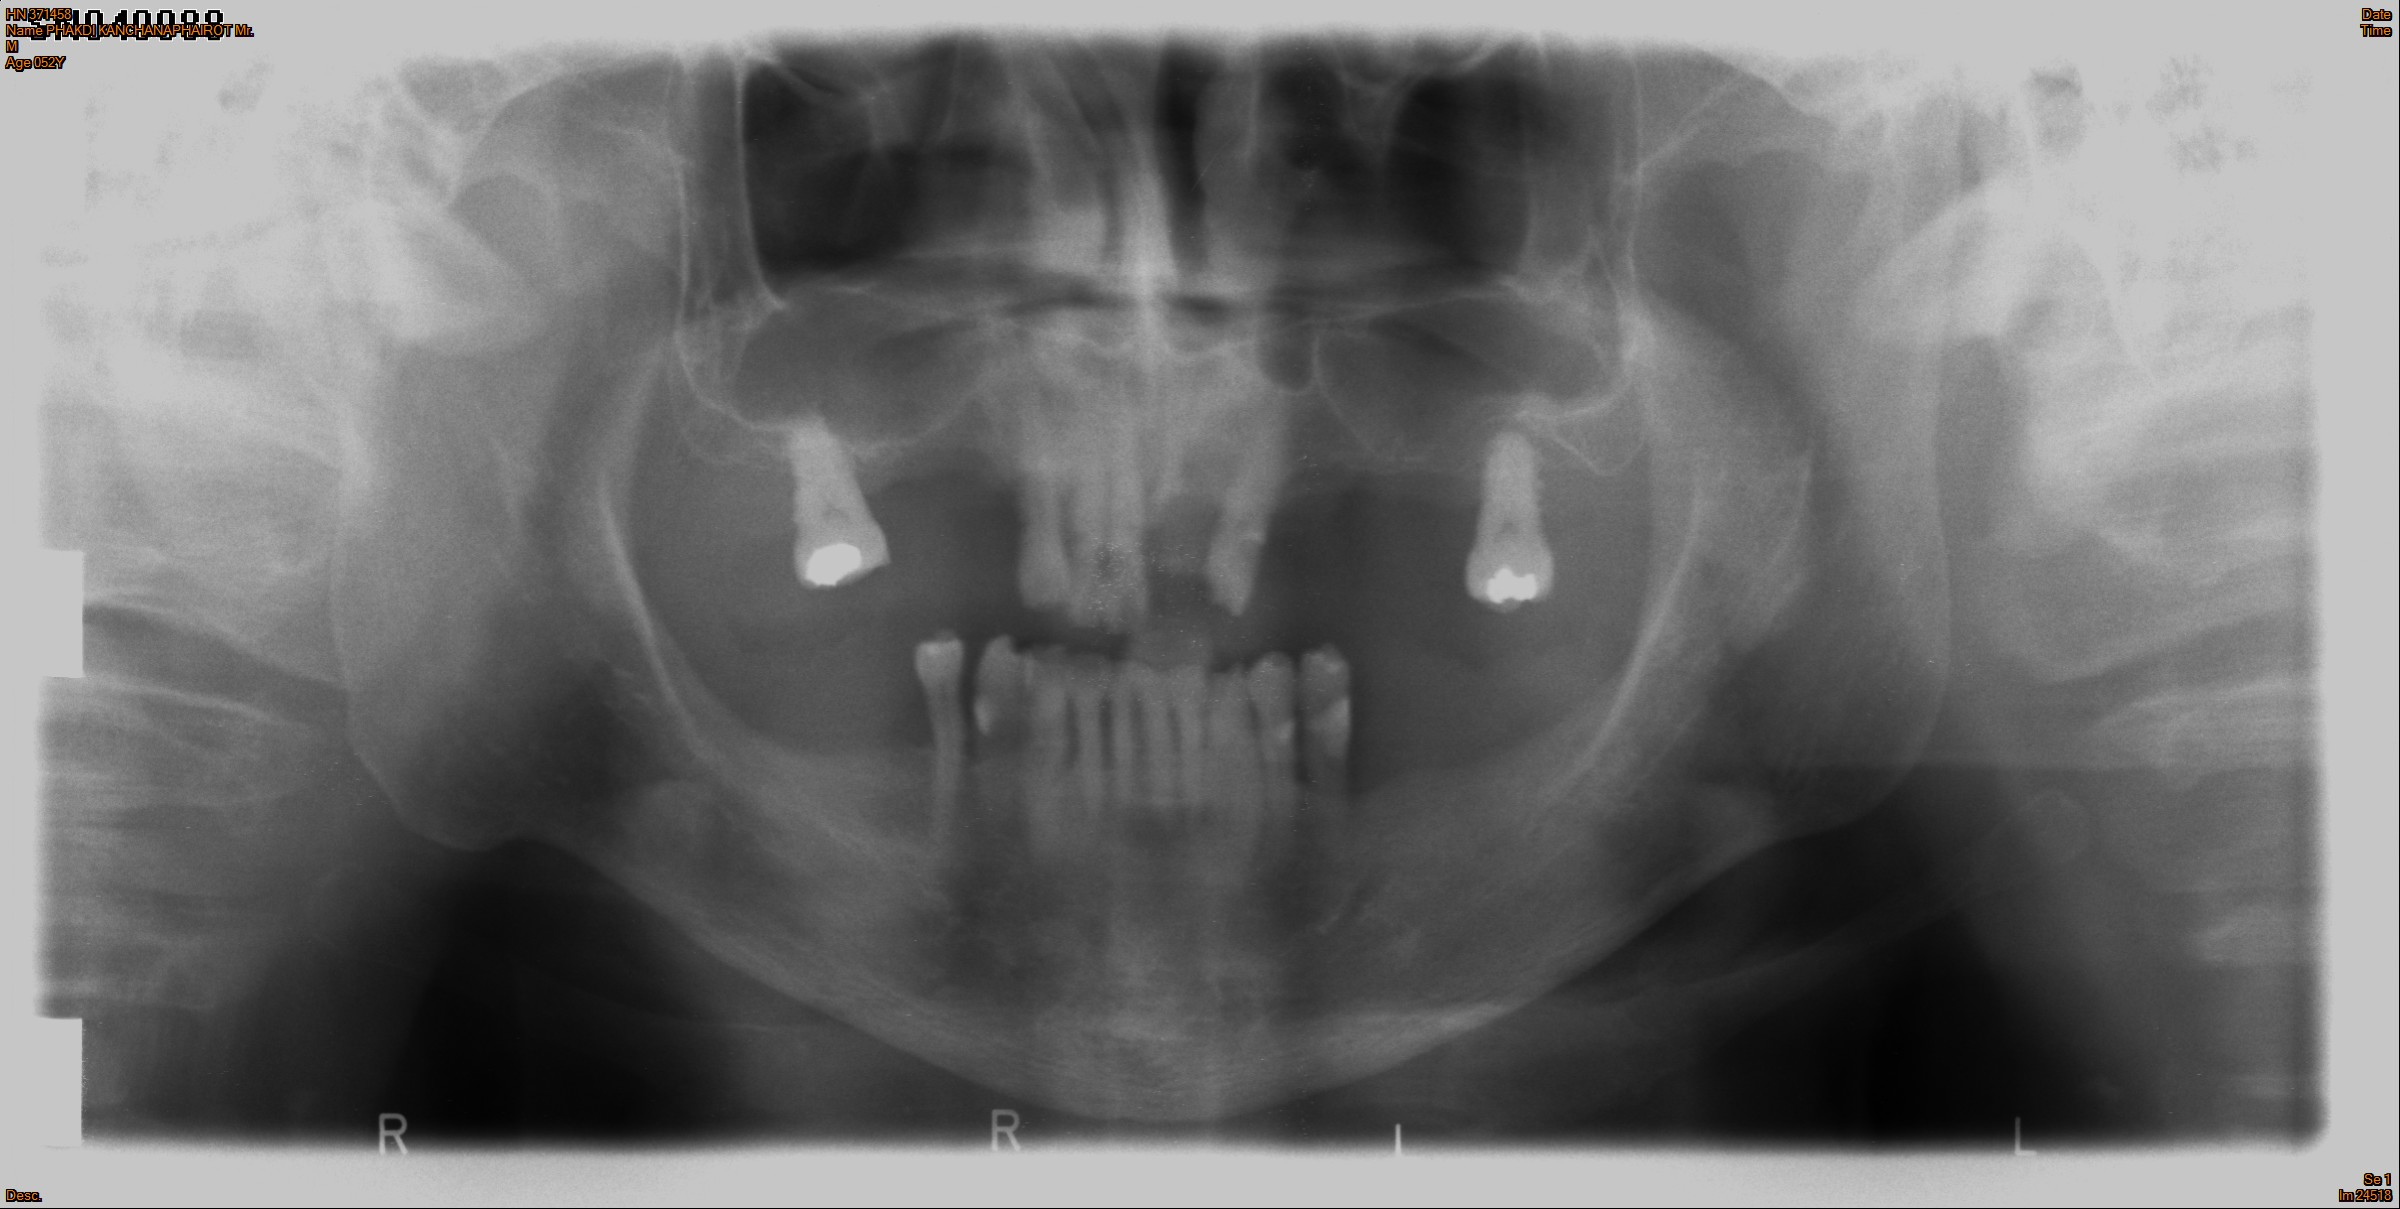periodontitis: (758, 396, 900, 597), (1457, 412, 1563, 621), (902, 631, 980, 868), (1235, 642, 1307, 888), (1295, 635, 1366, 865)
